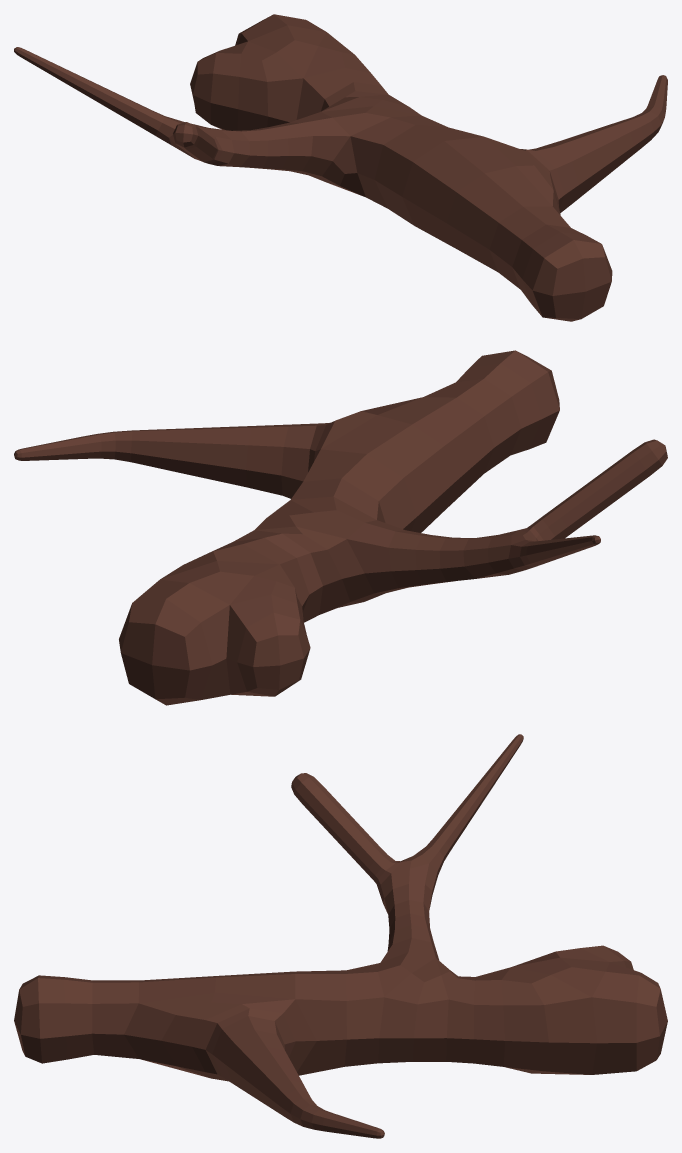
File: Trunk5.fbx
The picture shows the model from 3 angles, top to bottom: view 1: azimuth 30°, elevation 25°; view 2: azimuth 150°, elevation 25°; view 3: azimuth 270°, elevation 25°; orthographic projection. The views are drawn at different scales.
Parts seen in each view (by area): view 1: Plane.004; view 2: Plane.004; view 3: Plane.004.
Part boxes in pixels (box(x1,y1,x2,y2)): Plane.004: box(14, 14, 667, 321); Plane.004: box(14, 350, 667, 705); Plane.004: box(14, 734, 667, 1138).
Size of the model in its own units: 504 by 151 by 493.
